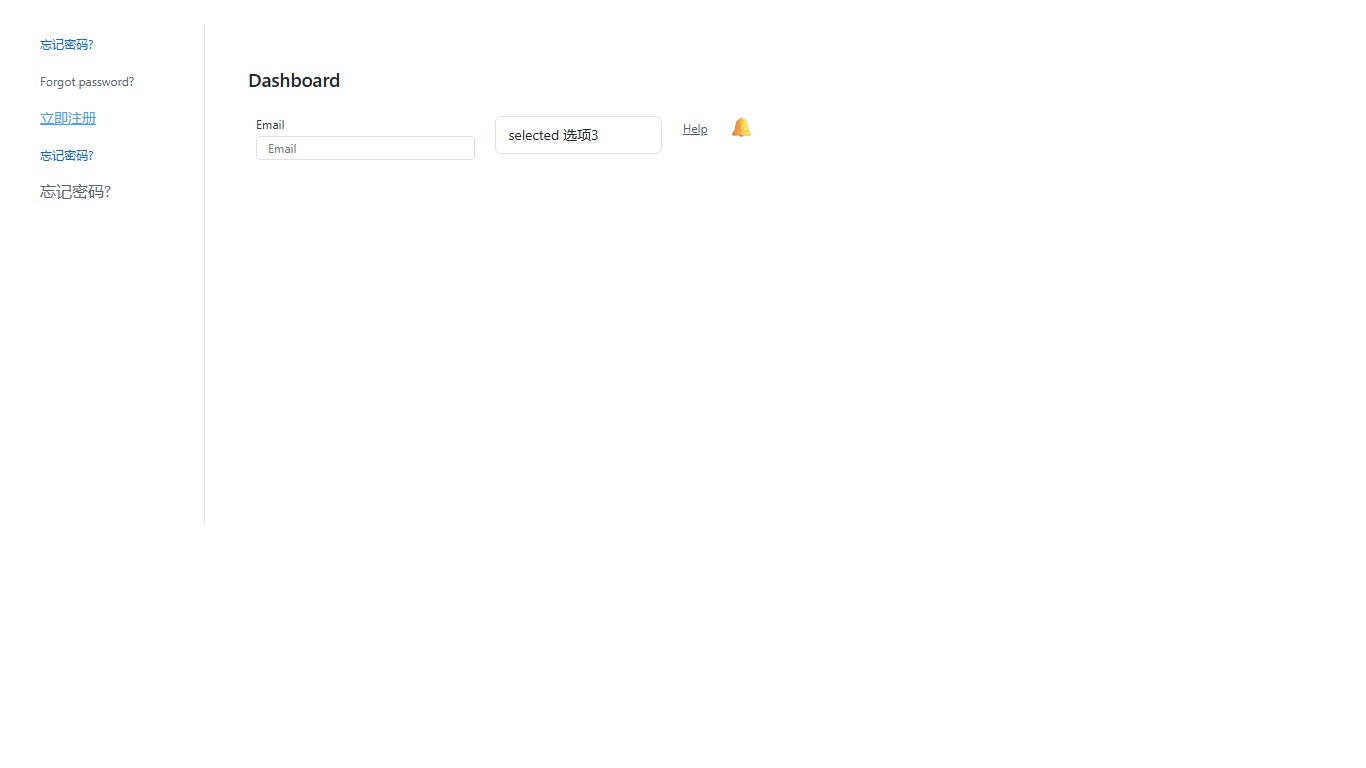icon: (728, 116, 755, 136)
input: (256, 136, 475, 160)
link: (40, 73, 134, 89), (40, 180, 111, 201), (40, 108, 96, 127), (40, 36, 93, 52), (40, 147, 93, 163), (683, 120, 708, 136)
select: (495, 116, 662, 154)
